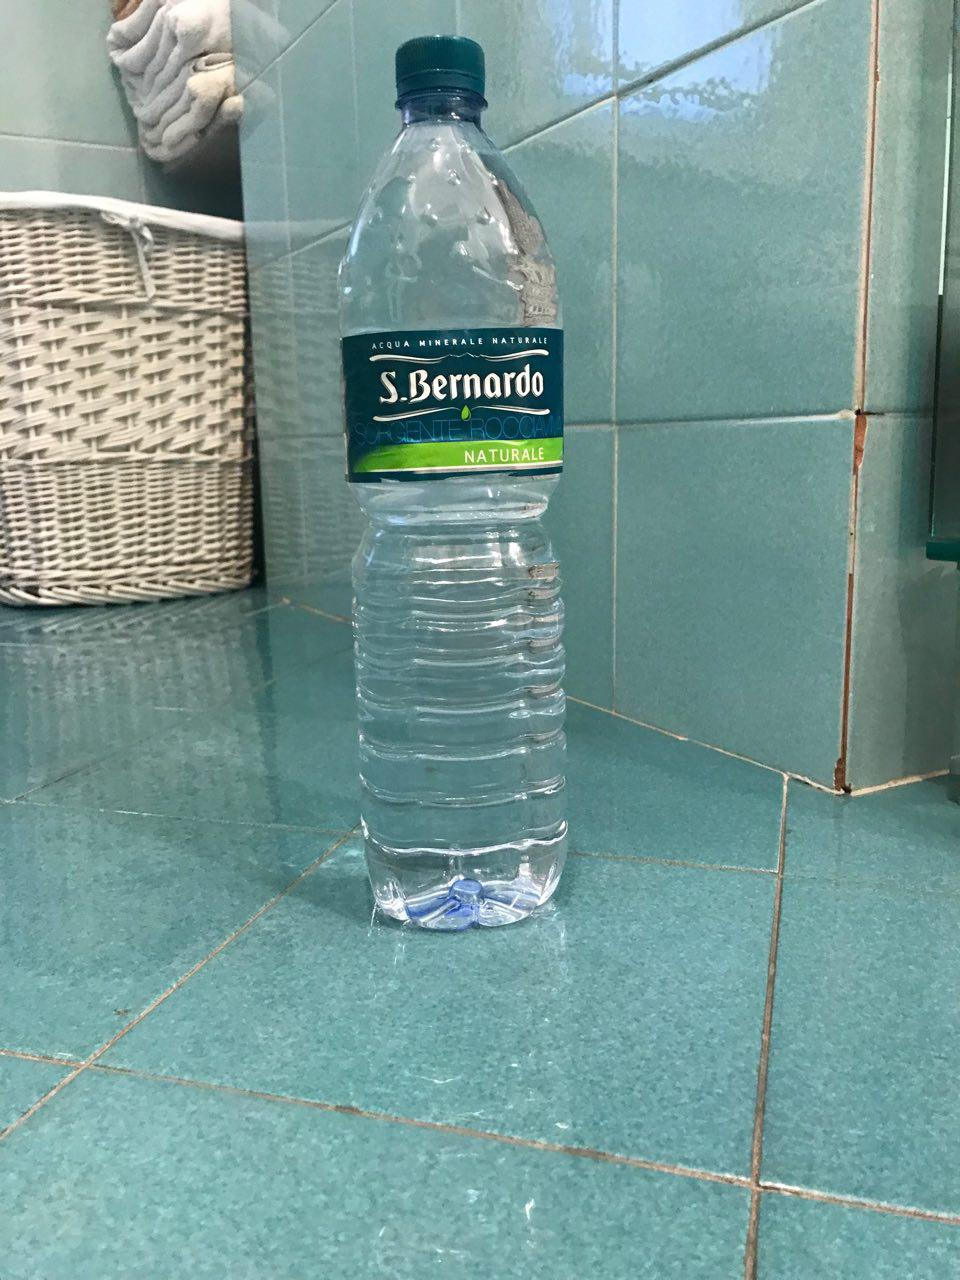san_bernardo: (336, 33, 570, 931)
